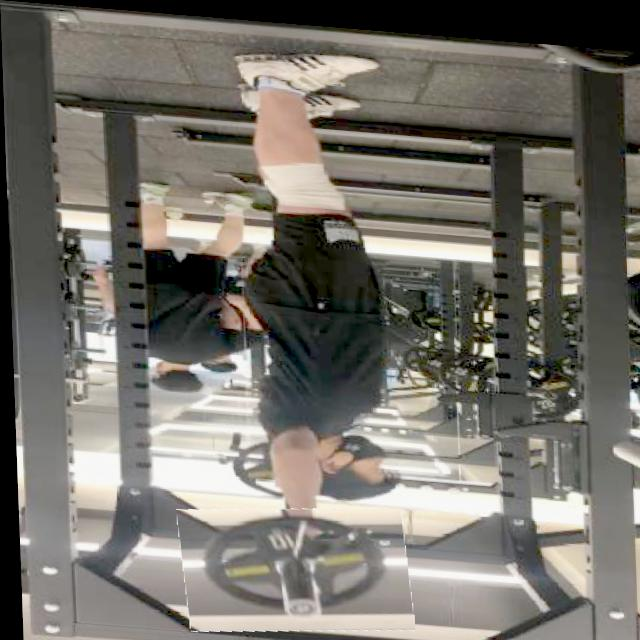barbell: (175, 493, 410, 639)
